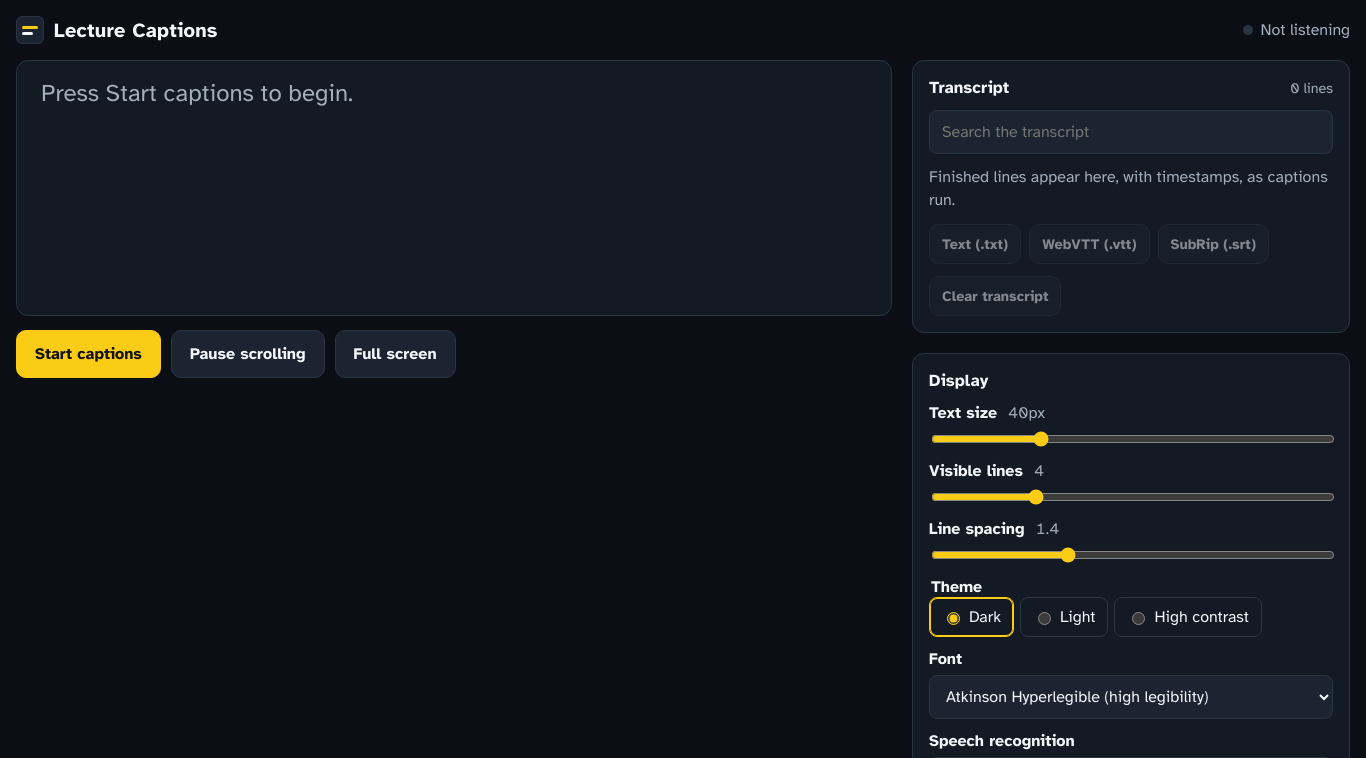
Test case: App › shows the privacy notice once, then captions speech into the transcript
This screenshot has width=1366, height=758.
Later steps or results of the test are not shown.
Click the button "Start captions": (88, 354) [16,330,161,378]
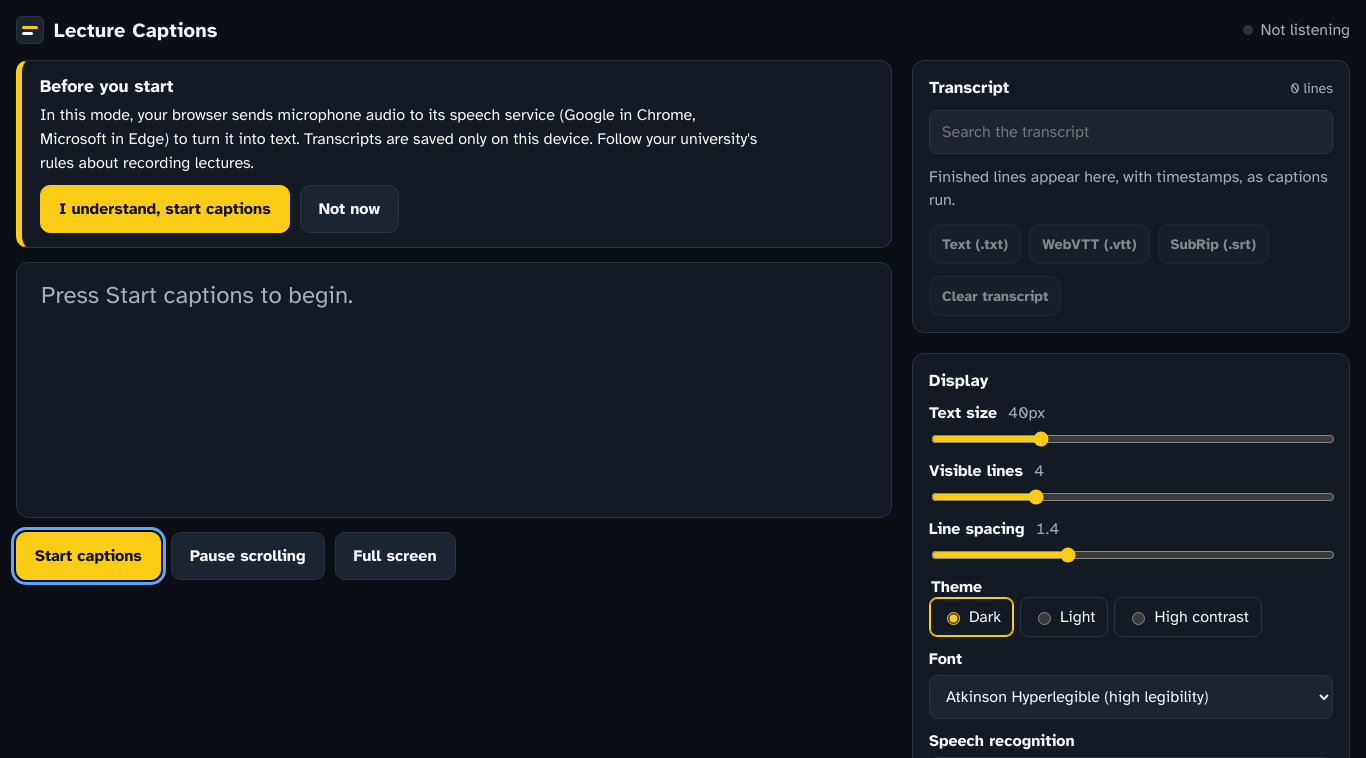
Check: the dialog shows "sends microphone audio", box [40,105,696,149]
